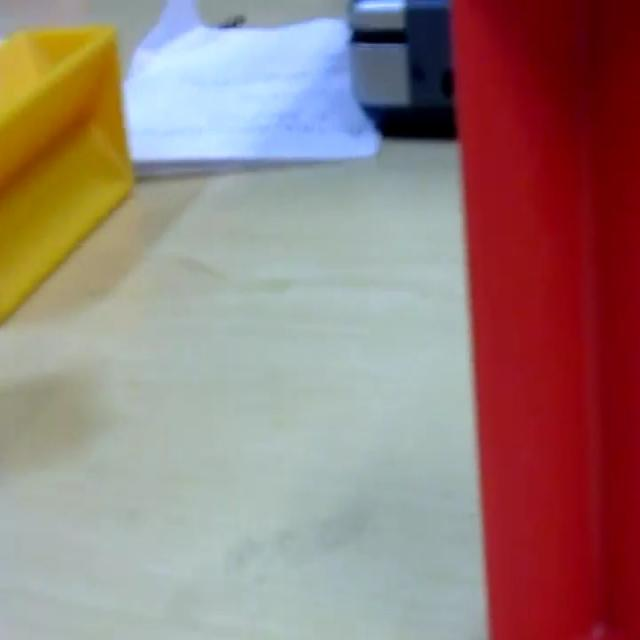red_block: (450, 0, 638, 636)
yellow_block: (0, 22, 134, 322)
